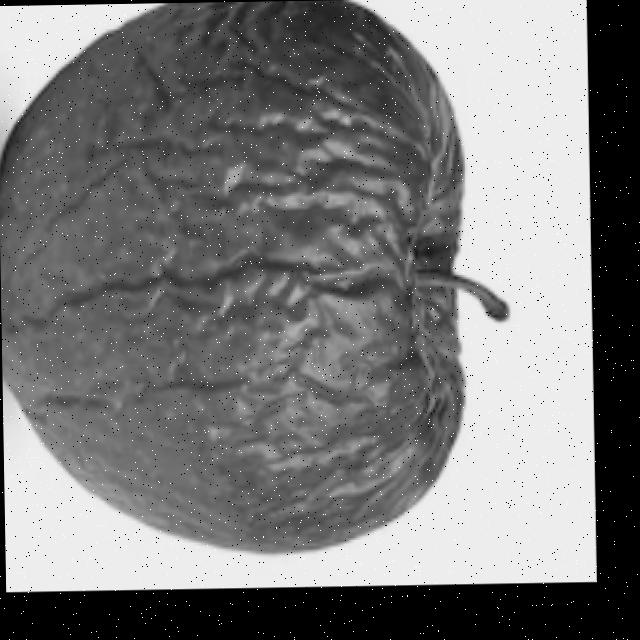overripe: (0, 0, 479, 565)
